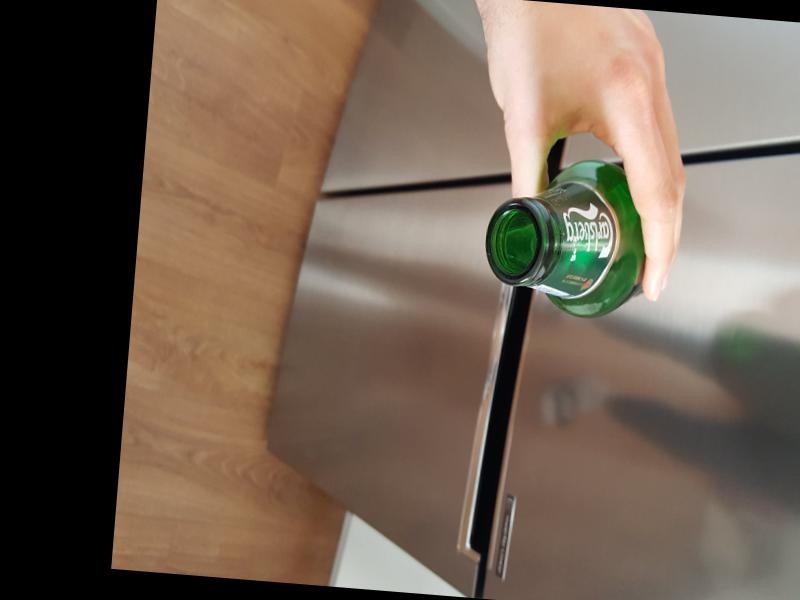Beer: (479, 156, 653, 321)
